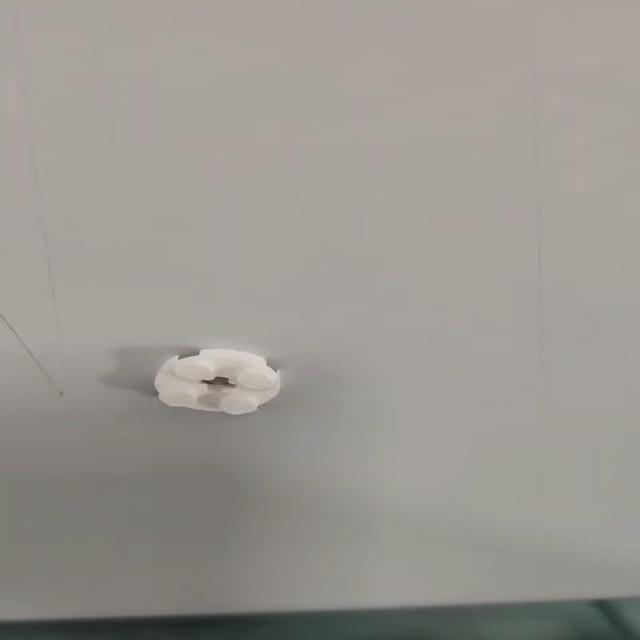S2x2x0: (151, 347, 281, 416)
